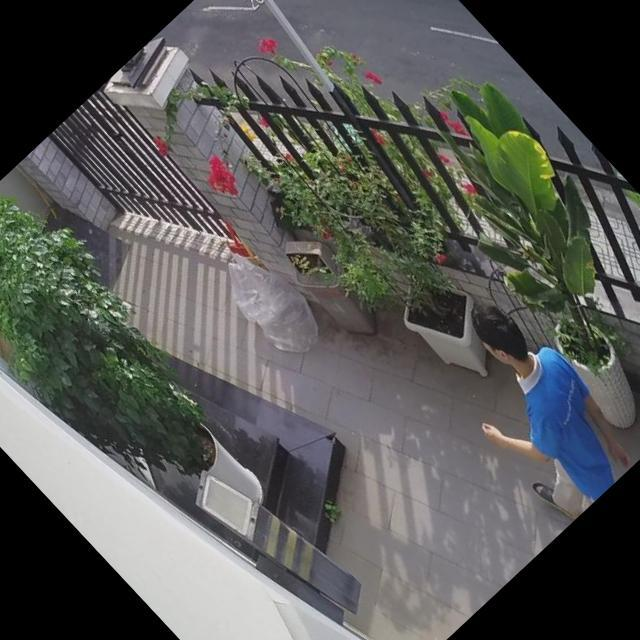person: (415, 284, 640, 526)
